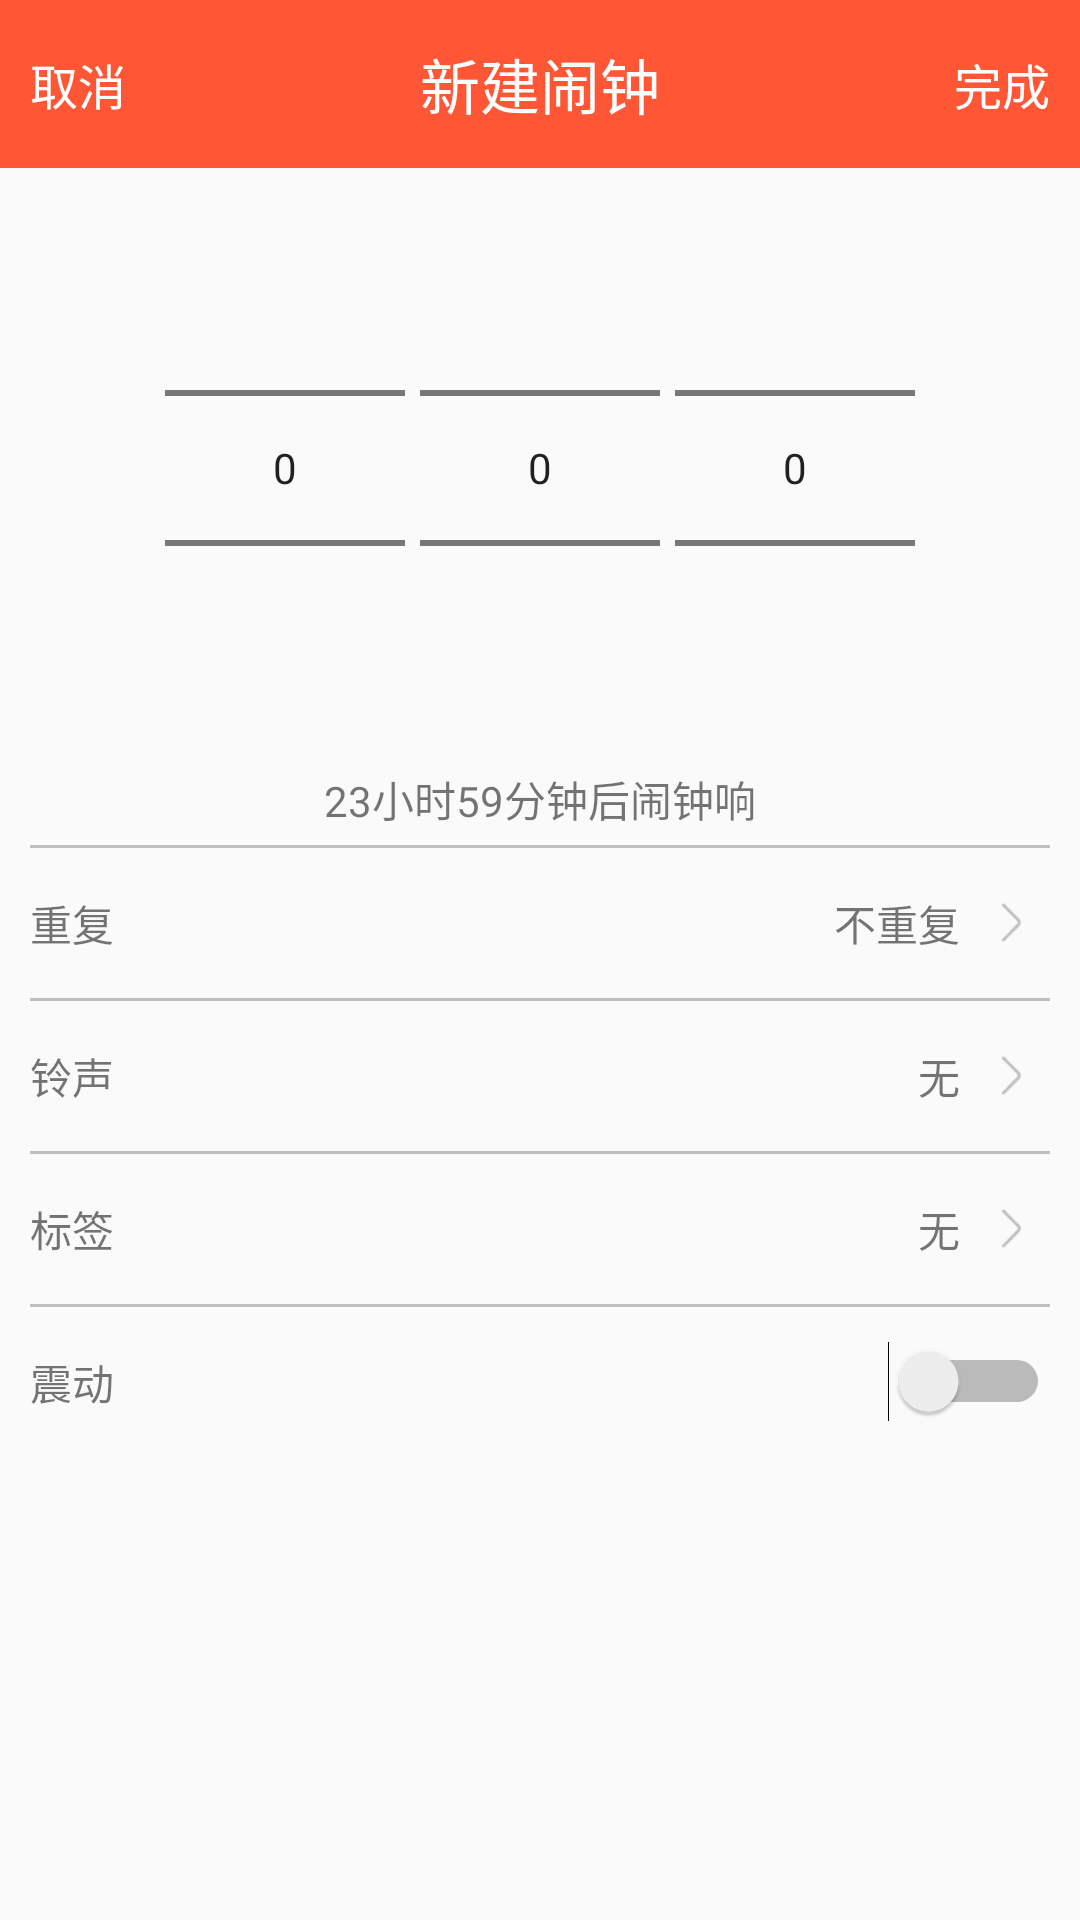

Screen size 1080x1920. Icon name, then its box in pixels as (x1, y1, x2, y2):
right: (1002, 904, 1021, 941), (1002, 1057, 1021, 1094), (1002, 1210, 1021, 1247)
